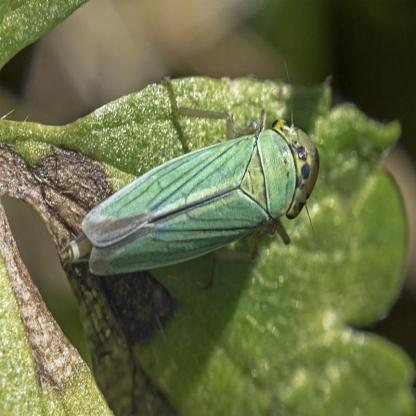Green-Leafhopper: (59, 105, 324, 277)
